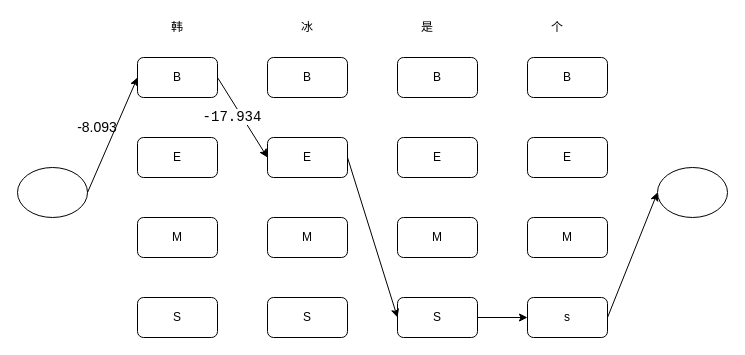
The diagram is 745 pixels wide and 355 high, and some of its shapes have lost their labels. The centre of each missing label's shape, as x and y in pixels:
end: point (692, 192)
Start: point (52, 192)
